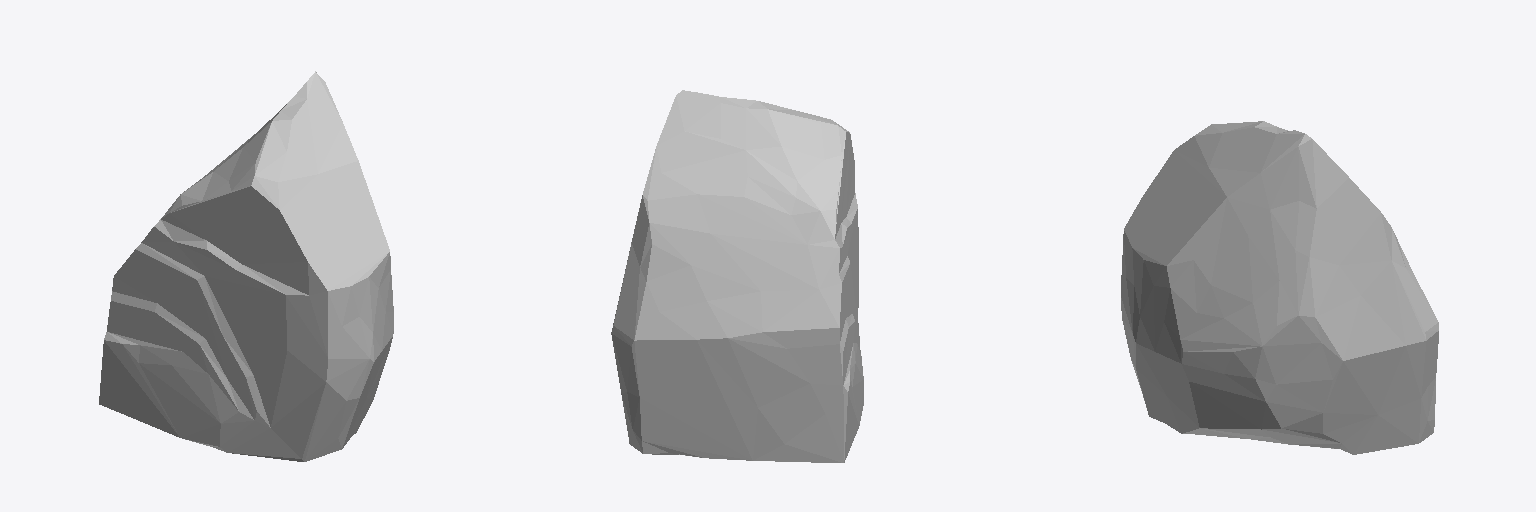
Rendered from sm_rock2.OBJ.
3 views of the same model, side by side, from view 1: azimuth 30°, elevation 25°; view 2: azimuth 150°, elevation 25°; view 3: azimuth 270°, elevation 25° (orthographic).
Visible parts, largest first — view 1: ZBrushPolyMesh3D; view 2: ZBrushPolyMesh3D; view 3: ZBrushPolyMesh3D.
Part boxes in pixels (x1,y1,x2,y2): ZBrushPolyMesh3D: (99, 71, 393, 461); ZBrushPolyMesh3D: (611, 90, 863, 462); ZBrushPolyMesh3D: (1121, 121, 1438, 454).
Bounding box in the file's own units: 0.9963 × 1.29 × 1.18.